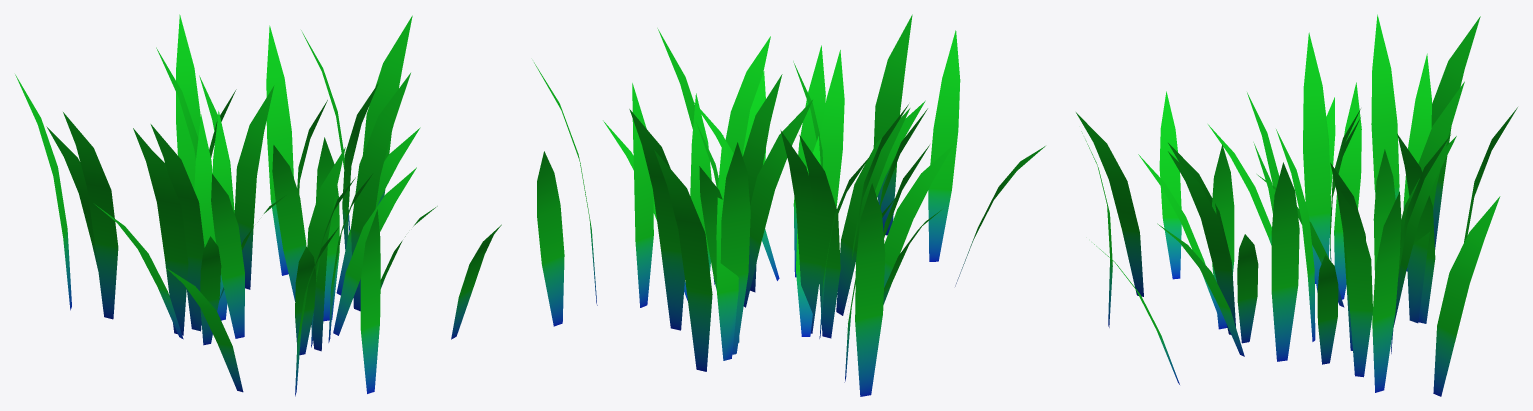
Rendered from m_Grass3_VP.fbx.
The picture shows the model from 3 angles, left to right: view 1: azimuth 30°, elevation 25°; view 2: azimuth 150°, elevation 25°; view 3: azimuth 270°, elevation 25°; orthographic projection. The views are drawn at different scales.
Parts seen in each view (by area): view 1: Grass3; view 2: Grass3; view 3: Grass3.
Part boxes in pixels (x1,y1,x2,y2): Grass3: [15, 14, 501, 396]; Grass3: [534, 14, 1045, 396]; Grass3: [1076, 14, 1517, 396].
Size of the model in its own units: 150 by 89.02 by 157.
